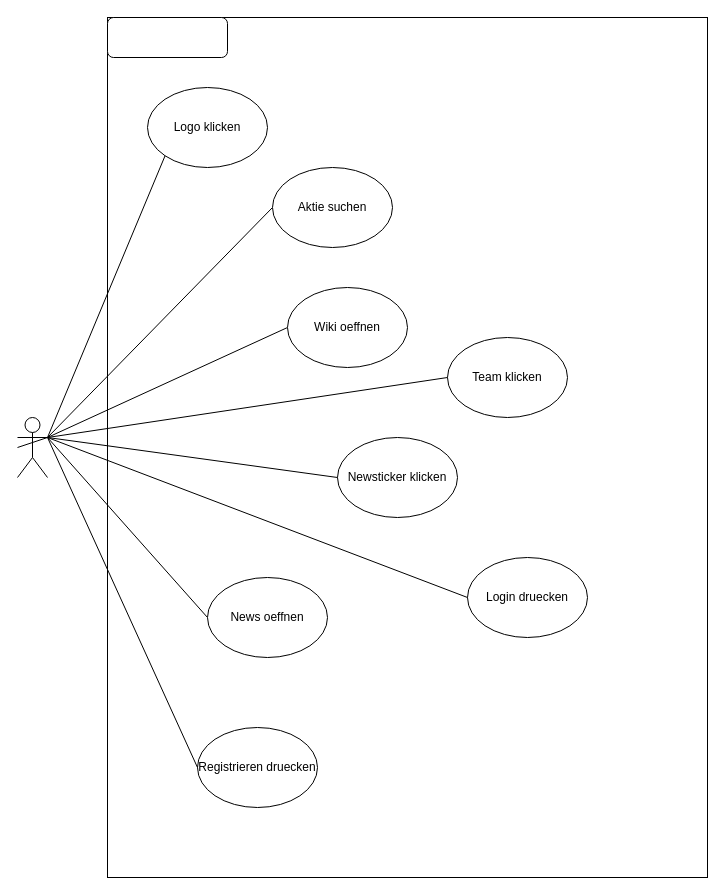
Some shapes in this 725 by 895 pixel diagram are drawn without their labels. The centre of each missing label's shape, as x and y in pixels:
"Gast" goes at (32,447).
"Startseite" goes at (167,37).
